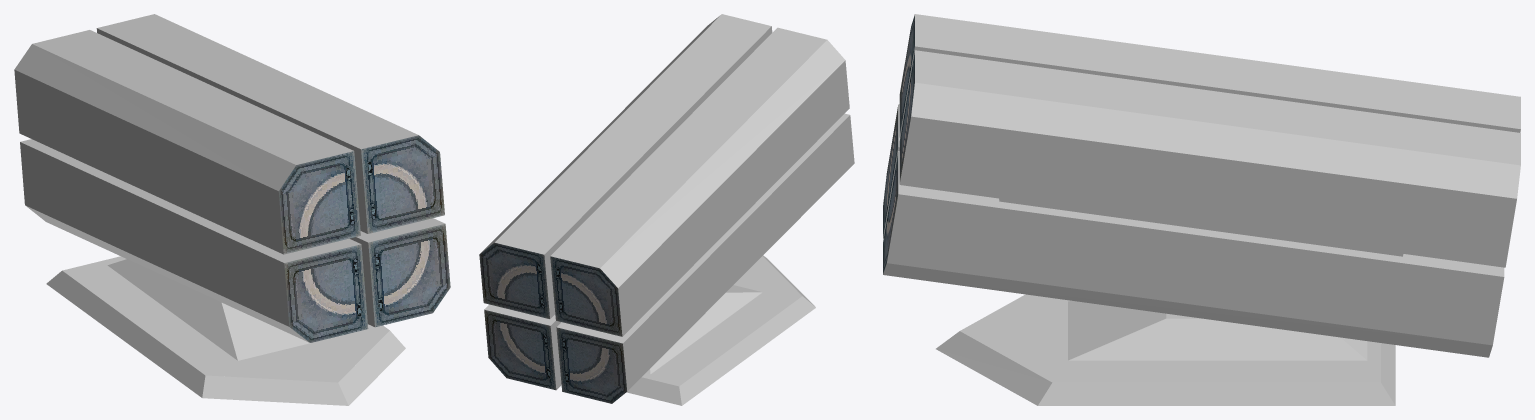
Rendered from Rocket Launcher.obj.
The picture shows the model from 3 angles, left to right: view 1: azimuth 30°, elevation 25°; view 2: azimuth 150°, elevation 25°; view 3: azimuth 270°, elevation 25°; orthographic projection. The views are drawn at different scales.
Bounding box in the file's own units: 2.64 × 3.24 × 6.24.
